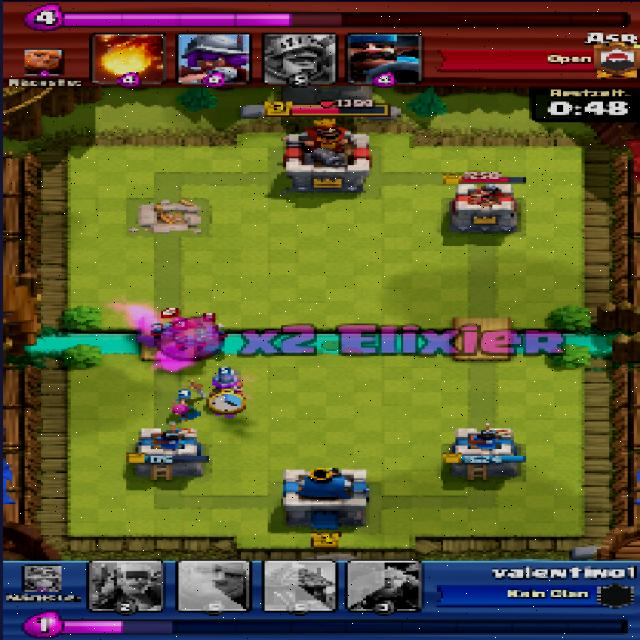Enemy-Minion: (200, 322, 226, 341), (150, 322, 178, 339), (180, 332, 205, 348)
Player-Archer: (168, 403, 198, 419)
Player-Musketeer: (210, 369, 241, 393)
